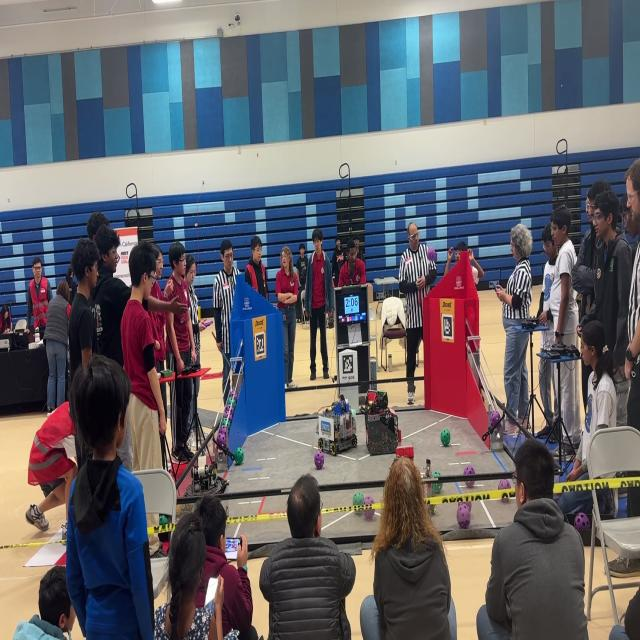artifact_green: (216, 430, 227, 449), (490, 411, 500, 428), (235, 447, 244, 465), (441, 429, 450, 446), (498, 479, 510, 491), (353, 492, 364, 505), (226, 397, 236, 409), (432, 482, 442, 494), (364, 509, 374, 520), (223, 405, 231, 418), (159, 515, 168, 526), (228, 408, 234, 422), (219, 425, 227, 435), (230, 391, 238, 401), (221, 418, 229, 427), (350, 409, 355, 417), (356, 511, 361, 515)
artifact_purple: (457, 503, 470, 529), (574, 512, 589, 530), (314, 450, 325, 470), (490, 410, 500, 428), (217, 432, 226, 448), (498, 479, 510, 490), (226, 396, 236, 408), (427, 246, 435, 261), (364, 509, 374, 520), (228, 408, 234, 424), (224, 405, 231, 418), (219, 426, 227, 437), (230, 391, 238, 401), (465, 480, 474, 488), (553, 495, 560, 505), (464, 501, 471, 511), (221, 418, 229, 426)
